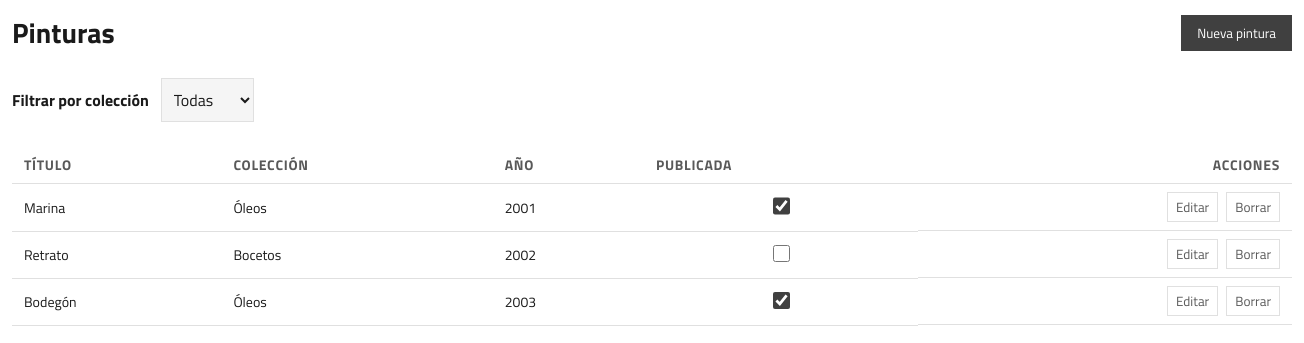
it: AdminPaintings › muestra el estado vacío filtrado
Expected: the cell "Marina" is shown, [12, 184, 221, 231]
Select "Vacía" in the dropdown labelled "Filtrar por colección" at (207, 100), box [161, 78, 254, 122]
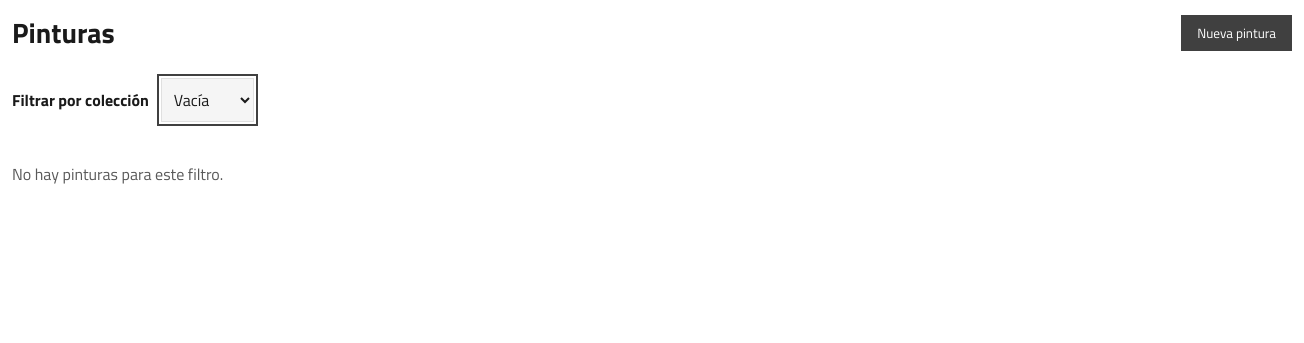
Result: the text "No hay pinturas para este filtro." is shown at [12, 162, 223, 186]
